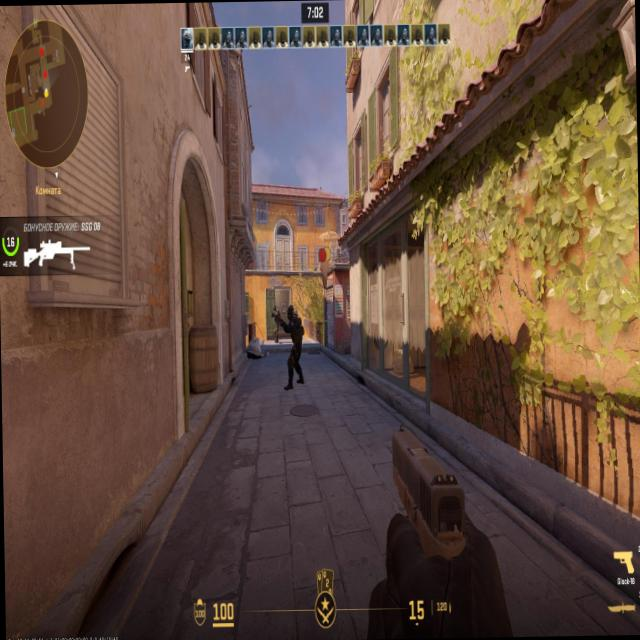CT: (288, 306, 304, 382), (272, 304, 278, 338)
CT_heat: (289, 307, 294, 319), (272, 306, 276, 312)
